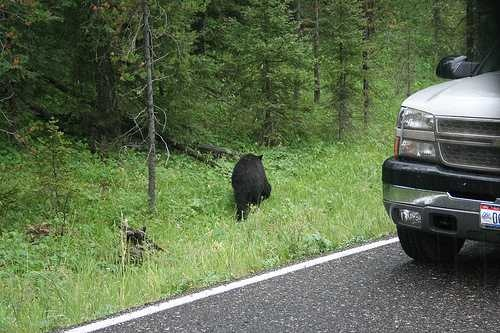bear: (187, 126, 315, 254)
